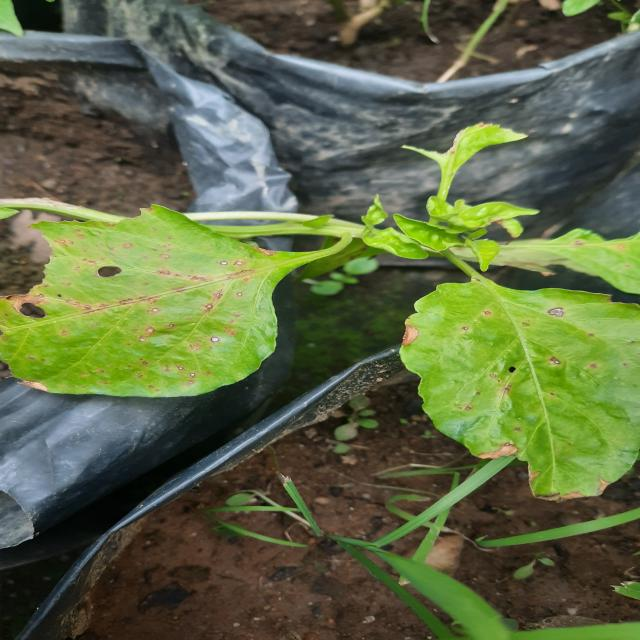bercak_daun: (0, 202, 313, 408), (395, 260, 640, 510)
